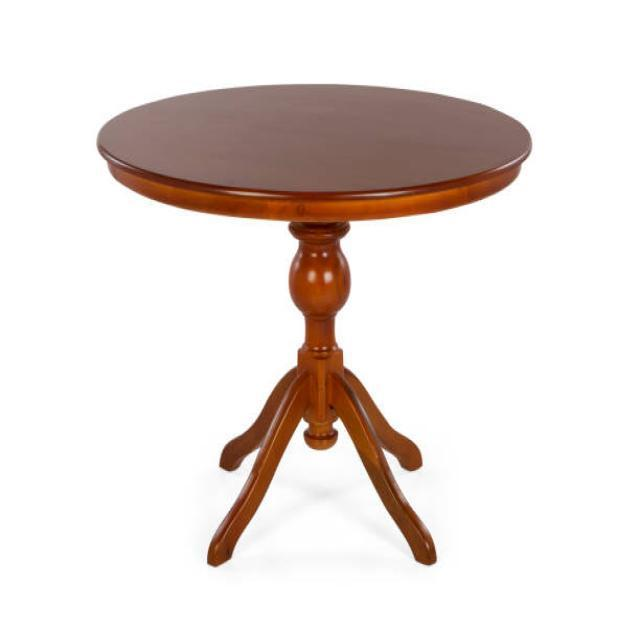table: (95, 81, 532, 568)
